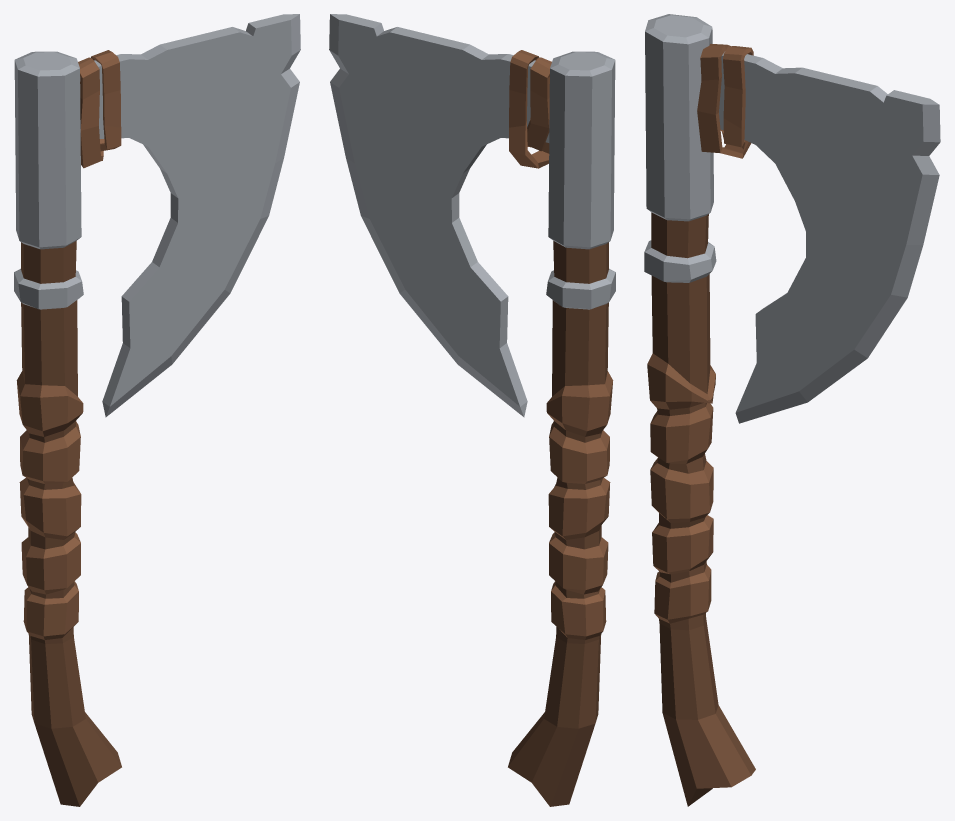
File: axe_small.glb
3 views of the same model, side by side, from view 1: azimuth 30°, elevation 25°; view 2: azimuth 150°, elevation 25°; view 3: azimuth 330°, elevation 25° (orthographic). The views are drawn at different scales.
Parts seen in each view (by area): view 1: Axe_small; view 2: Axe_small; view 3: Axe_small.
Boxes of the visible parts, x1,y1,x2,y2 form: Axe_small: (14, 14, 300, 806); Axe_small: (329, 14, 615, 806); Axe_small: (644, 14, 940, 806).
Size of the model in its own units: 1.17 by 2.96 by 0.2483.
